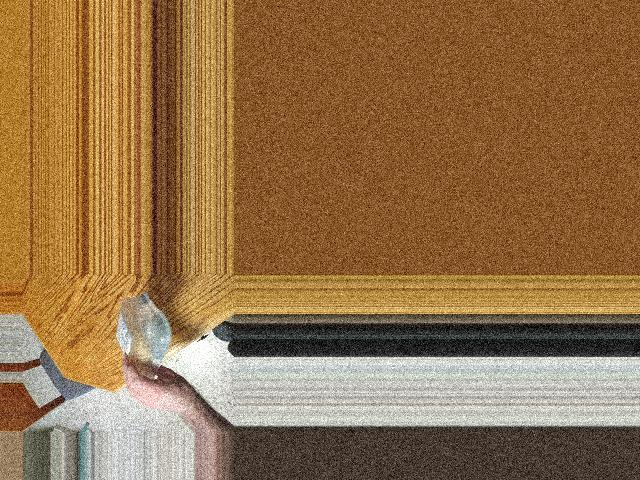cheese: (114, 292, 167, 395)
